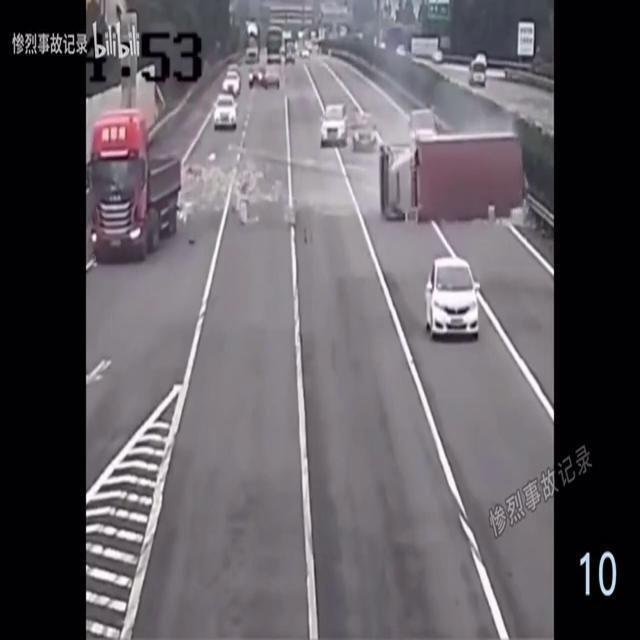accident: (378, 133, 522, 223)
non-accident: (212, 70, 242, 130)
